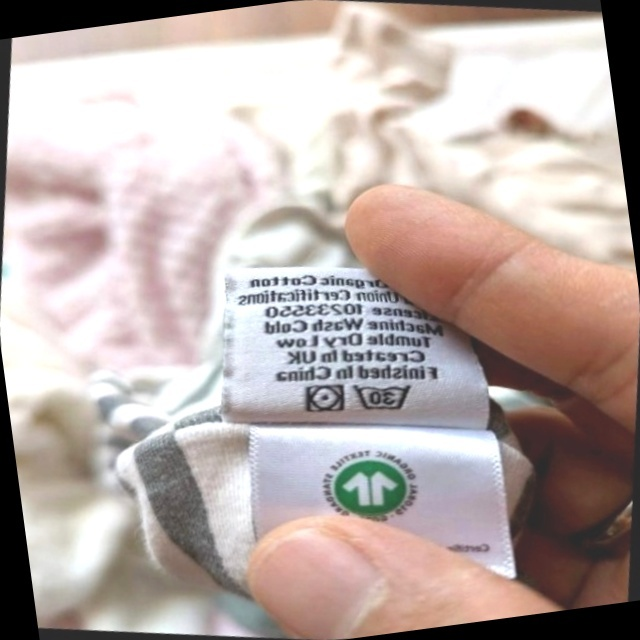30C: (345, 370, 421, 424)
tumble_dry_low: (297, 374, 352, 423)
